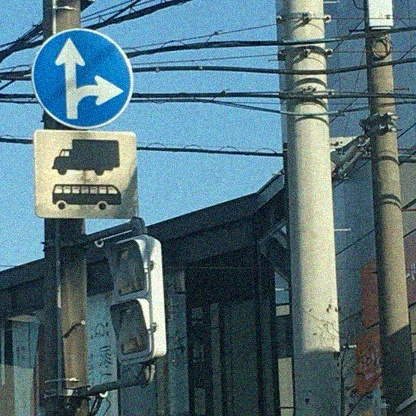Direction_sign: (34, 28, 139, 127)
